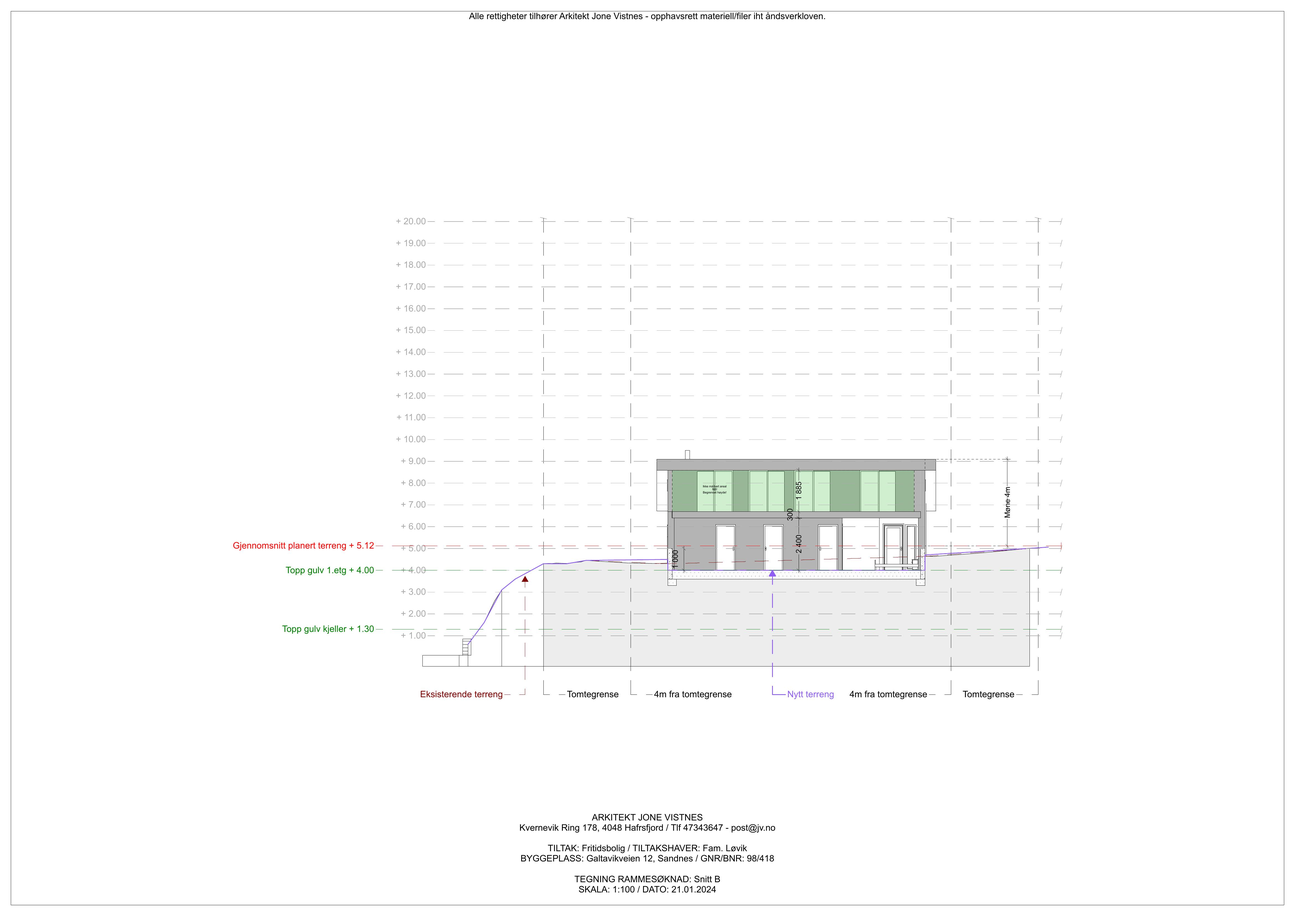snitt: (626, 449, 947, 675)
